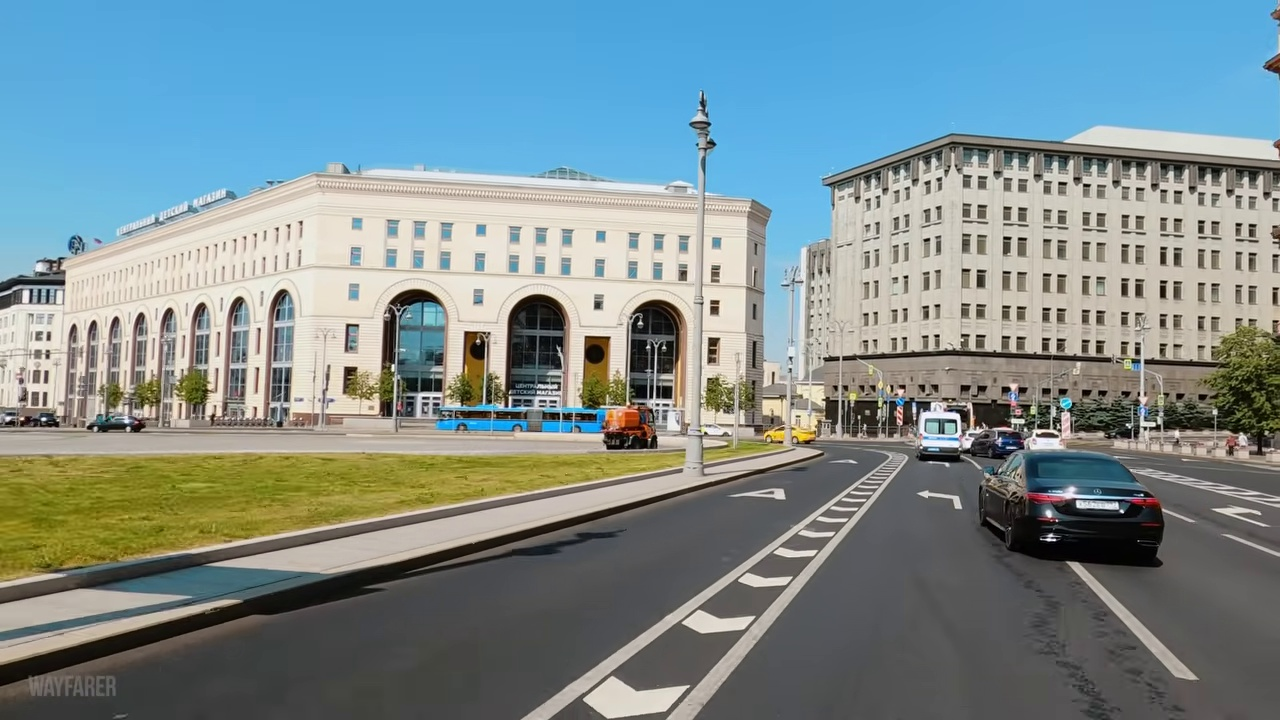apagada: (687, 94, 721, 136)
